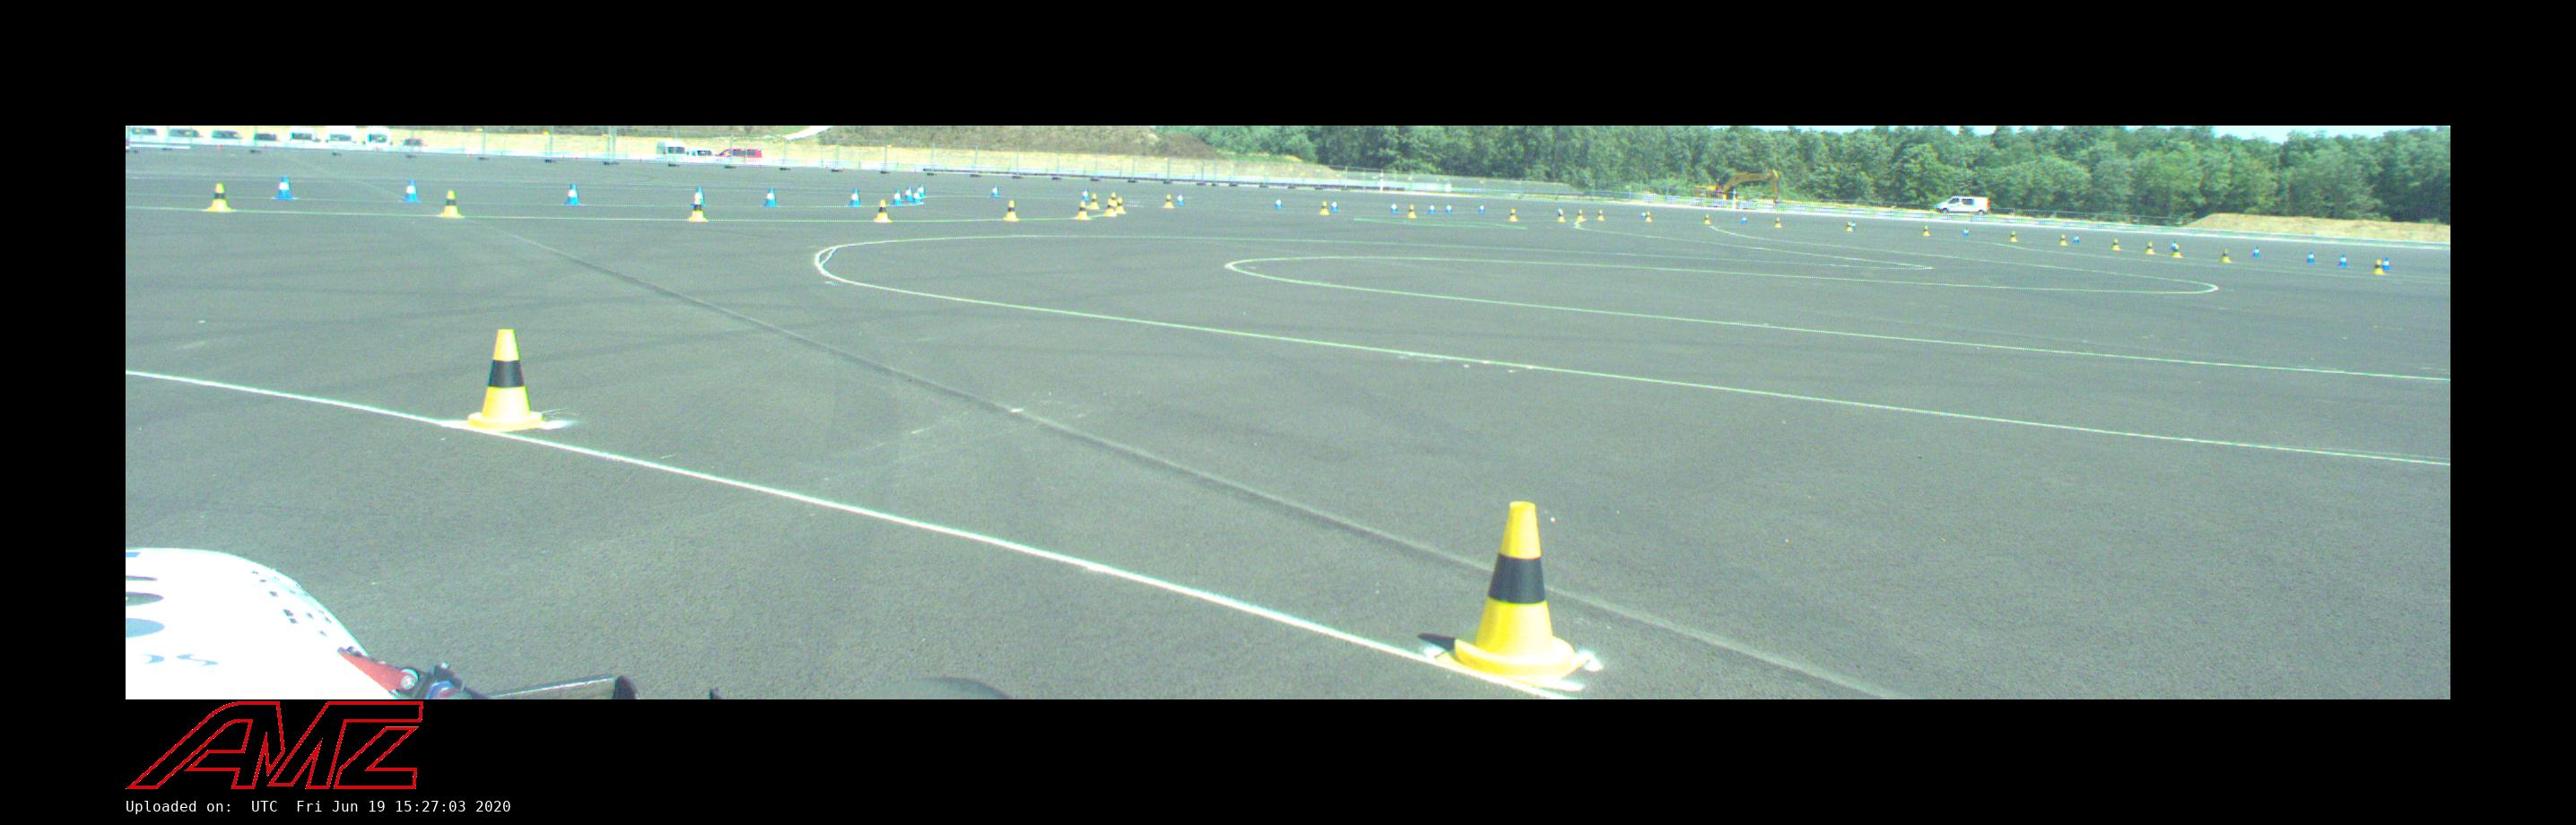blue_cone: (276, 176, 294, 200), (402, 179, 421, 202), (563, 184, 582, 205), (688, 186, 706, 207), (848, 189, 862, 207), (762, 189, 777, 207), (890, 189, 904, 205), (2338, 253, 2349, 268), (913, 187, 923, 204), (2305, 251, 2316, 263), (989, 186, 1001, 197), (904, 186, 912, 200), (920, 184, 928, 199), (1273, 197, 1283, 209), (2384, 256, 2392, 270), (1331, 199, 1339, 212), (1176, 192, 1184, 205), (1390, 200, 1398, 214), (1740, 214, 1748, 225), (2252, 247, 2261, 258), (1428, 204, 1436, 214), (1081, 189, 1089, 199), (2072, 233, 2080, 243), (1446, 202, 1452, 214), (1479, 202, 1485, 214), (2170, 240, 2177, 251), (1640, 210, 1644, 220), (1851, 220, 1856, 230), (1963, 227, 1968, 237)
yellow_cone: (1438, 501, 1589, 684), (465, 330, 549, 431), (207, 182, 232, 212), (440, 191, 462, 217), (688, 199, 708, 222), (1002, 200, 1020, 220), (874, 200, 890, 222), (1104, 199, 1117, 217), (1078, 200, 1089, 220), (2372, 260, 2385, 274), (1161, 194, 1175, 209), (2170, 245, 2183, 258), (2219, 248, 2231, 263), (1117, 196, 1125, 214), (1408, 204, 1418, 219), (1089, 194, 1099, 209), (1107, 192, 1117, 207), (2111, 238, 2123, 250), (2144, 242, 2155, 253), (1508, 209, 1518, 222), (1319, 202, 1329, 215), (1556, 210, 1566, 222), (1576, 210, 1585, 222), (1922, 227, 1930, 237), (2060, 235, 2068, 245), (1597, 210, 1605, 220), (2009, 232, 2017, 242), (1644, 212, 1653, 222), (1774, 219, 1782, 228), (1704, 214, 1710, 224), (1847, 222, 1851, 232)
